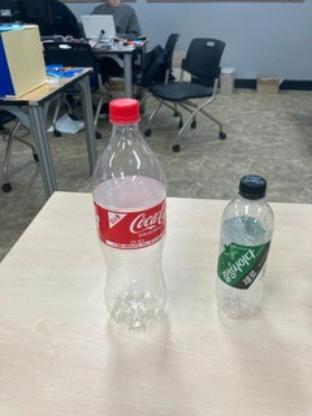Plastic Bottle: (90, 95, 172, 335), (212, 168, 276, 328)
